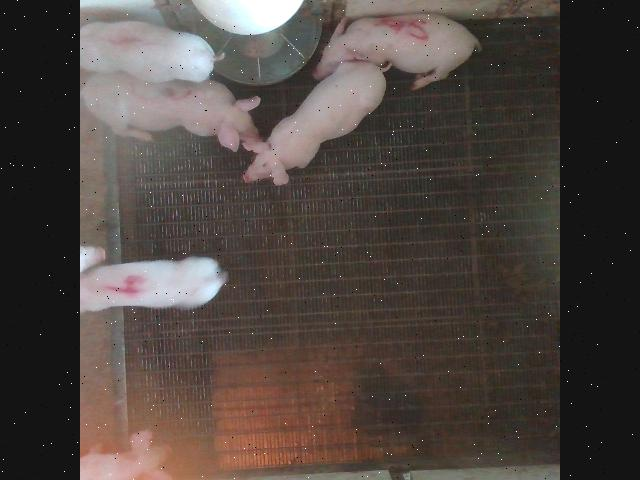pig-1: (81, 20, 222, 81)
pig-3: (82, 72, 261, 149)
pig-4: (81, 256, 226, 311)
pig-5: (314, 14, 480, 89)
